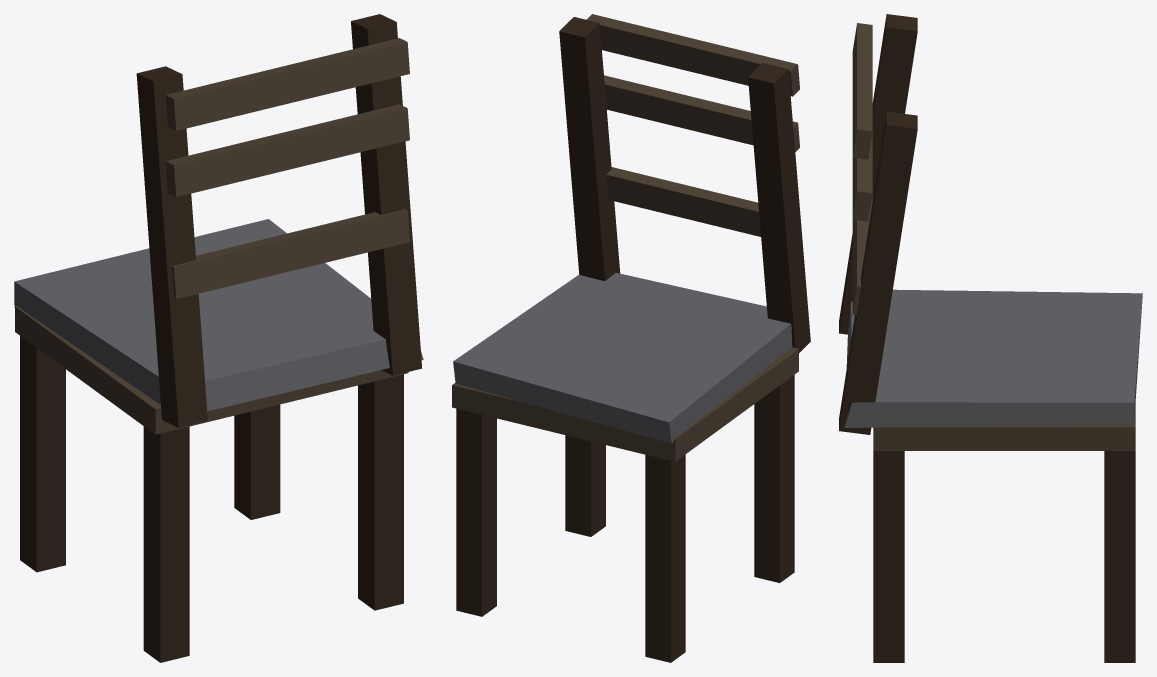
The model's file is father_chair.glb.
3 views of the same model, side by side, from view 1: azimuth 30°, elevation 25°; view 2: azimuth 150°, elevation 25°; view 3: azimuth 270°, elevation 25° (orthographic). The views are drawn at different scales.
Visible parts, largest first — view 1: father_chair; view 2: father_chair; view 3: father_chair.
Part boxes in pixels (box(x1,y1,x2,y2)): father_chair: box(14, 14, 423, 662); father_chair: box(452, 14, 810, 662); father_chair: box(839, 14, 1142, 662).
Size of what is drawn, in the model's own units: 0.52 by 1.13 by 0.5786.
